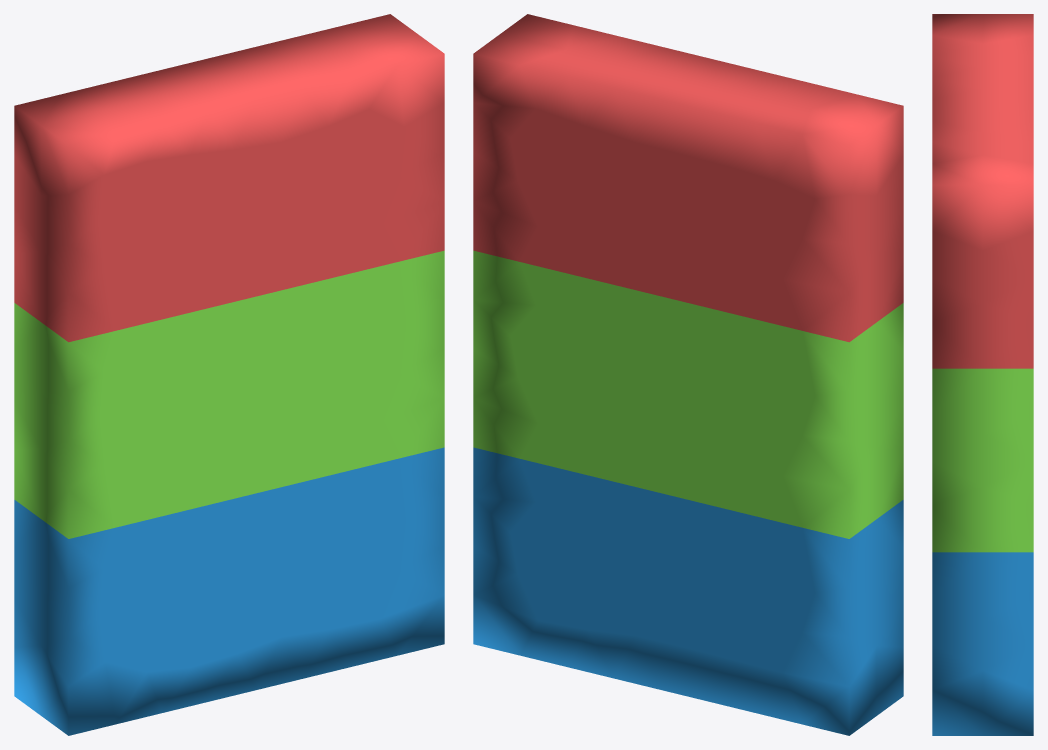
Rendered from SoftBlock.fbx.
3 views of the same model, side by side, from view 1: azimuth 30°, elevation 25°; view 2: azimuth 150°, elevation 25°; view 3: azimuth 270°, elevation 25° (orthographic). The views are drawn at different scales.
Parts seen in each view (by area): view 1: SoftBlock; view 2: SoftBlock; view 3: SoftBlock.
Part boxes in pixels (<box>): SoftBlock: <box>14,14,444,735</box>; SoftBlock: <box>473,14,903,735</box>; SoftBlock: <box>932,14,1033,735</box>.
Size of the model in its own units: 40 by 60 by 10.
